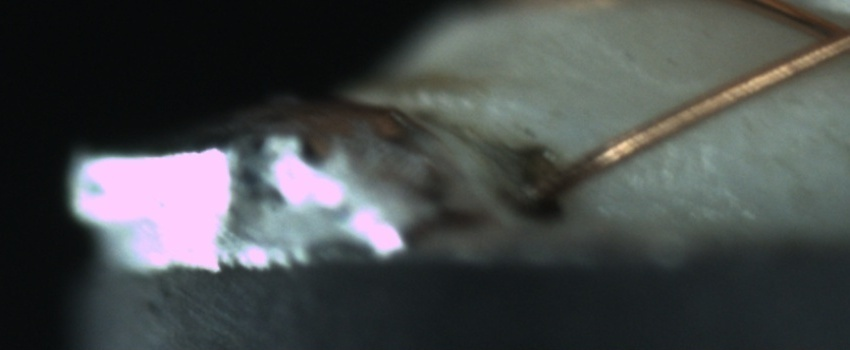CL: (782, 4, 849, 68)
